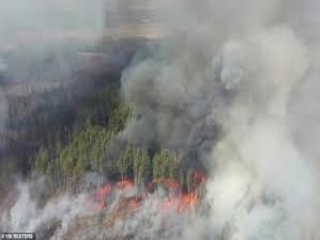fire: (105, 173, 207, 214)
smoke: (212, 34, 315, 222), (111, 46, 201, 157)
